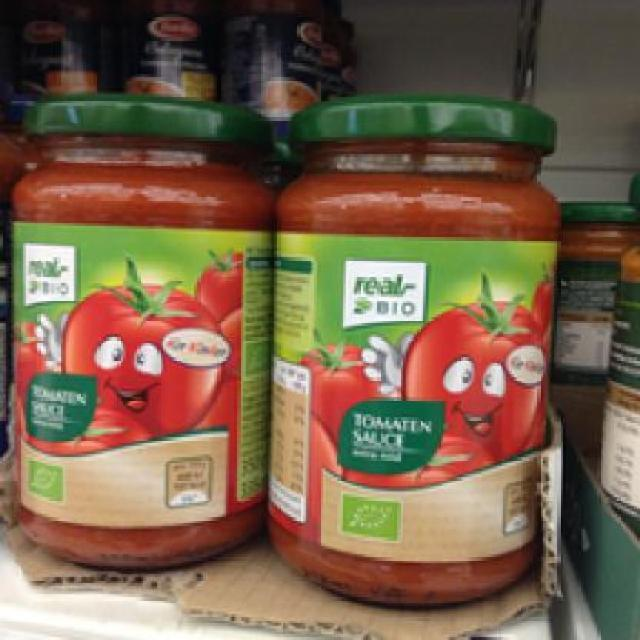Tomato Sauce: (265, 94, 558, 603), (8, 94, 272, 566)
